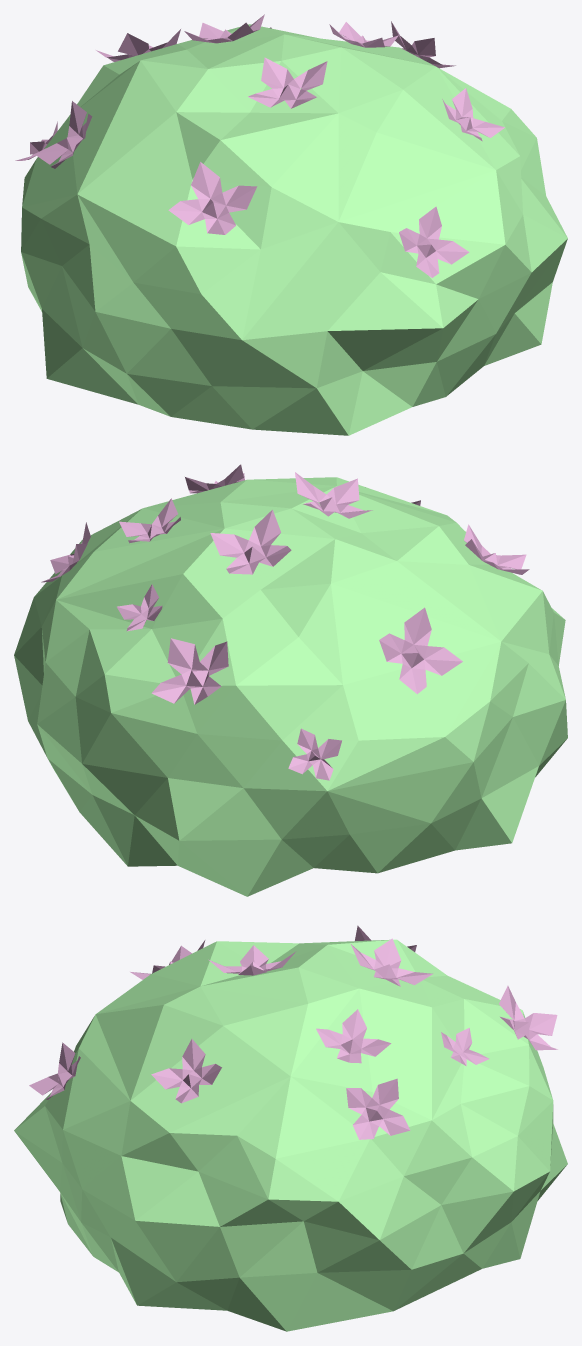
The model's file is FlowerBush.fbx.
3 views of the same model, one above another, from view 1: azimuth 30°, elevation 25°; view 2: azimuth 150°, elevation 25°; view 3: azimuth 270°, elevation 25° (orthographic). The views are drawn at different scales.
Parts seen in each view (by area): view 1: Icosphere; view 2: Icosphere; view 3: Icosphere.
Boxes of the visible parts, left/top/right/bottom form: Icosphere: left=15, top=14, right=567, bottom=435; Icosphere: left=14, top=464, right=567, bottom=896; Icosphere: left=14, top=925, right=567, bottom=1331.
Bounding box in the file's own units: 294 × 185 × 312.
